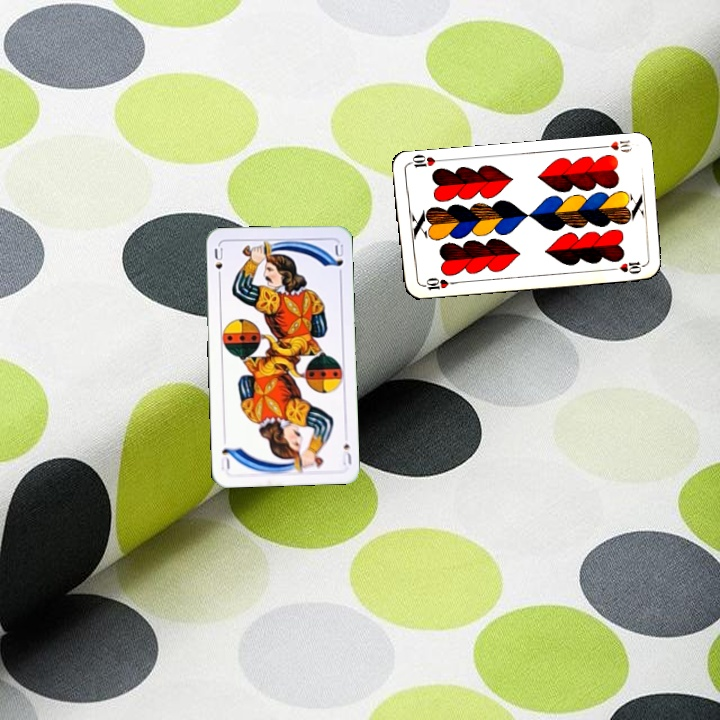H10: (417, 273, 457, 293), (595, 136, 635, 155)
SU: (210, 244, 225, 283), (338, 439, 354, 468)
